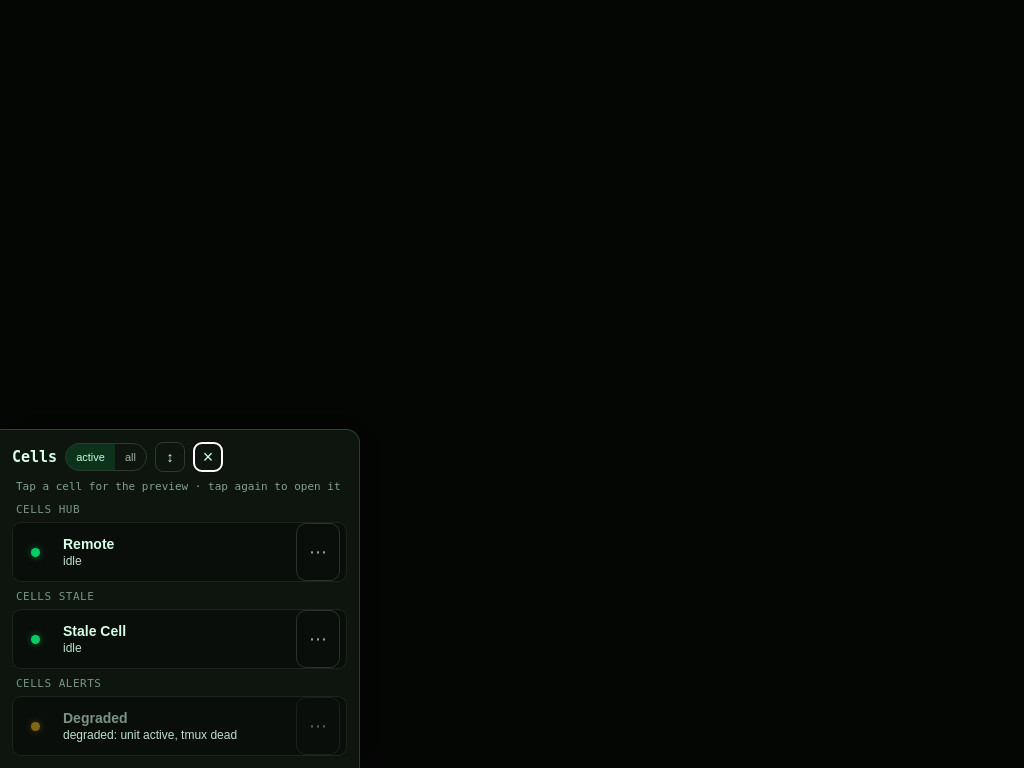
Scenario: CellSwitcher › pillola «Attive», nodo su «pinned» con la spenta pinnata: la spenta non compare, «Tutte» la ripristina disabilitata
Expected: the button "Remote idle" is shown, [63,523,290,581]
Expected: the button "cell-Three " is not shown
Click the button "all".
click(130, 457)  # box [115,444,146,470]
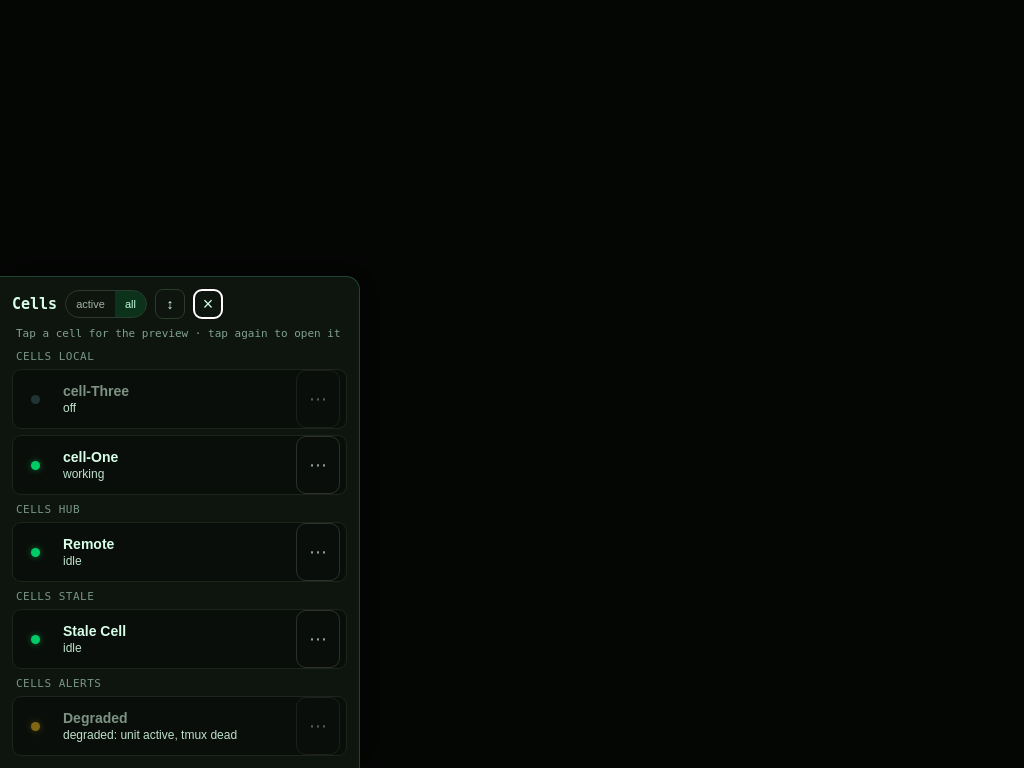
Now the button "cell-One working" is shown, box [63,436,290,494]
